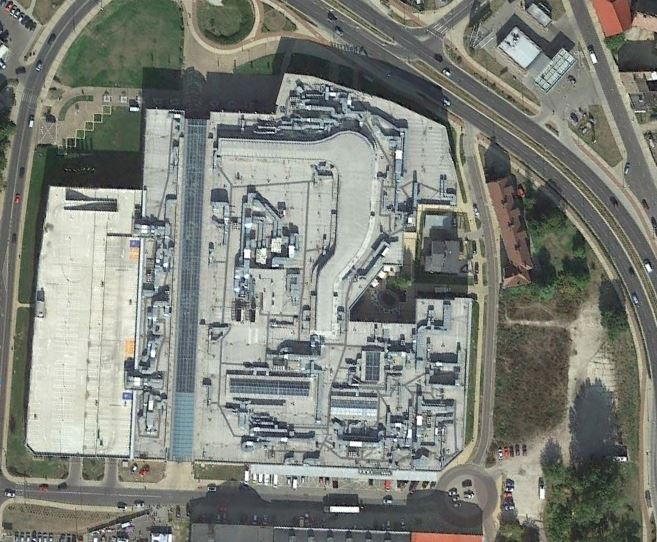block of flats: (481, 175, 543, 294)
shopping_center: (22, 68, 488, 485)
